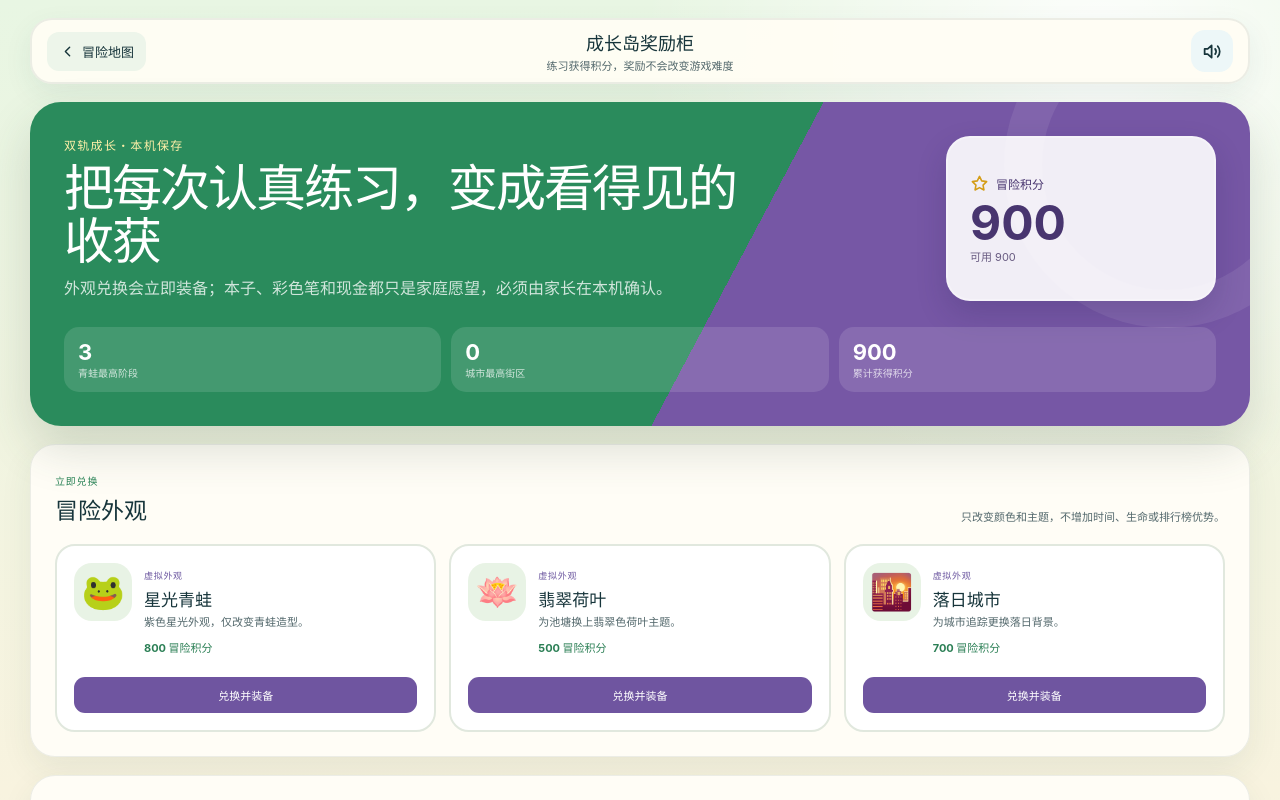
RewardCabinetPage › redeems a cosmetic through ProgressStore and shows its equipped state
What coordinates should you click on to do the following:
click the button "兑换并装备" below "800"
I would click on:
 (246, 695)
Its box is x1=74 y1=677 x2=417 y2=713.
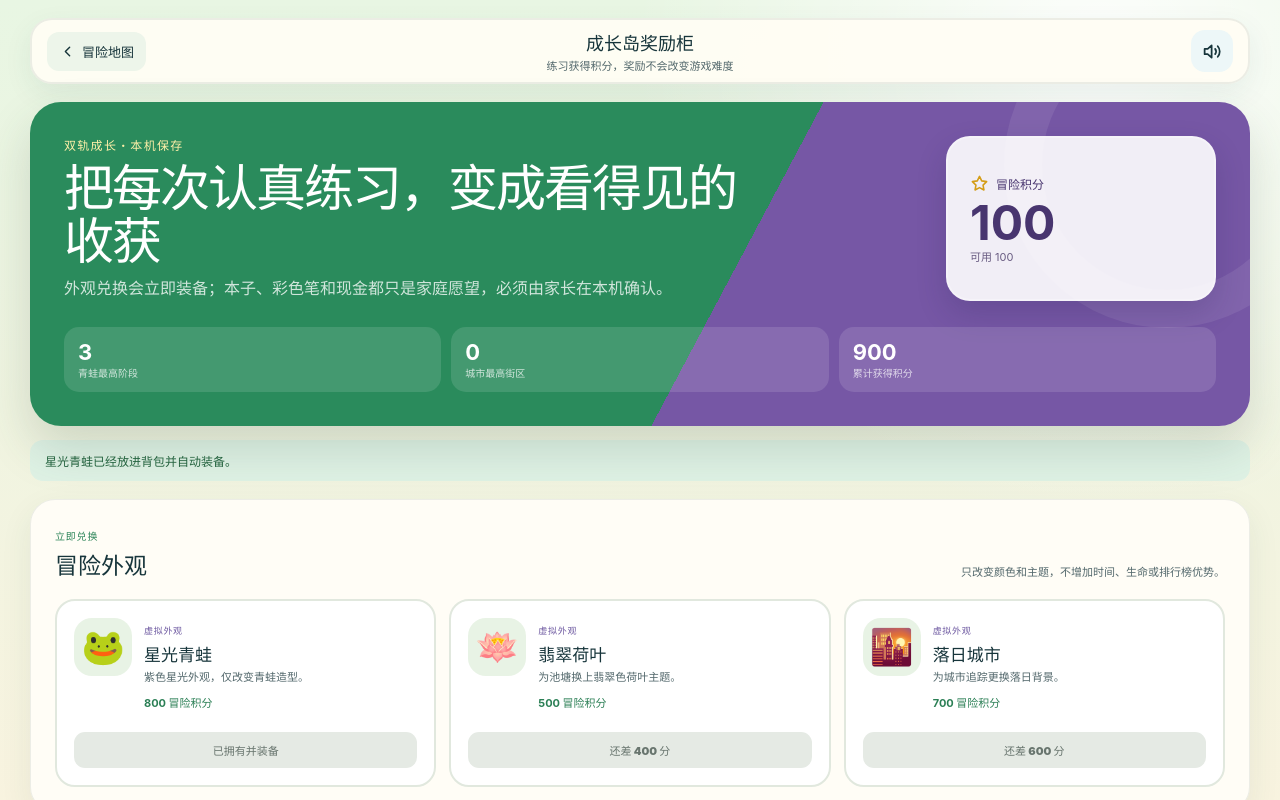
Now the message shows "已经放进背包并自动装备", box x1=45 y1=454 x2=237 y2=469
Now the button "已拥有并装备" is disabled, box x1=74 y1=732 x2=417 y2=768
